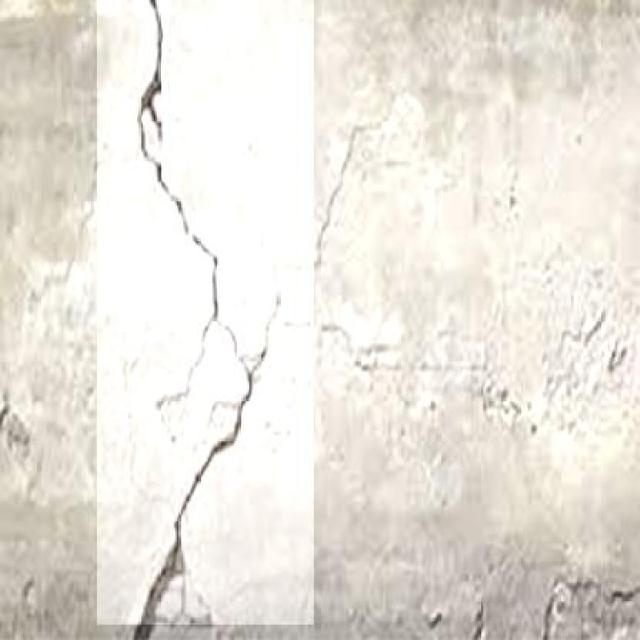Crack: (87, 0, 270, 640), (288, 321, 464, 399), (302, 118, 368, 290)
